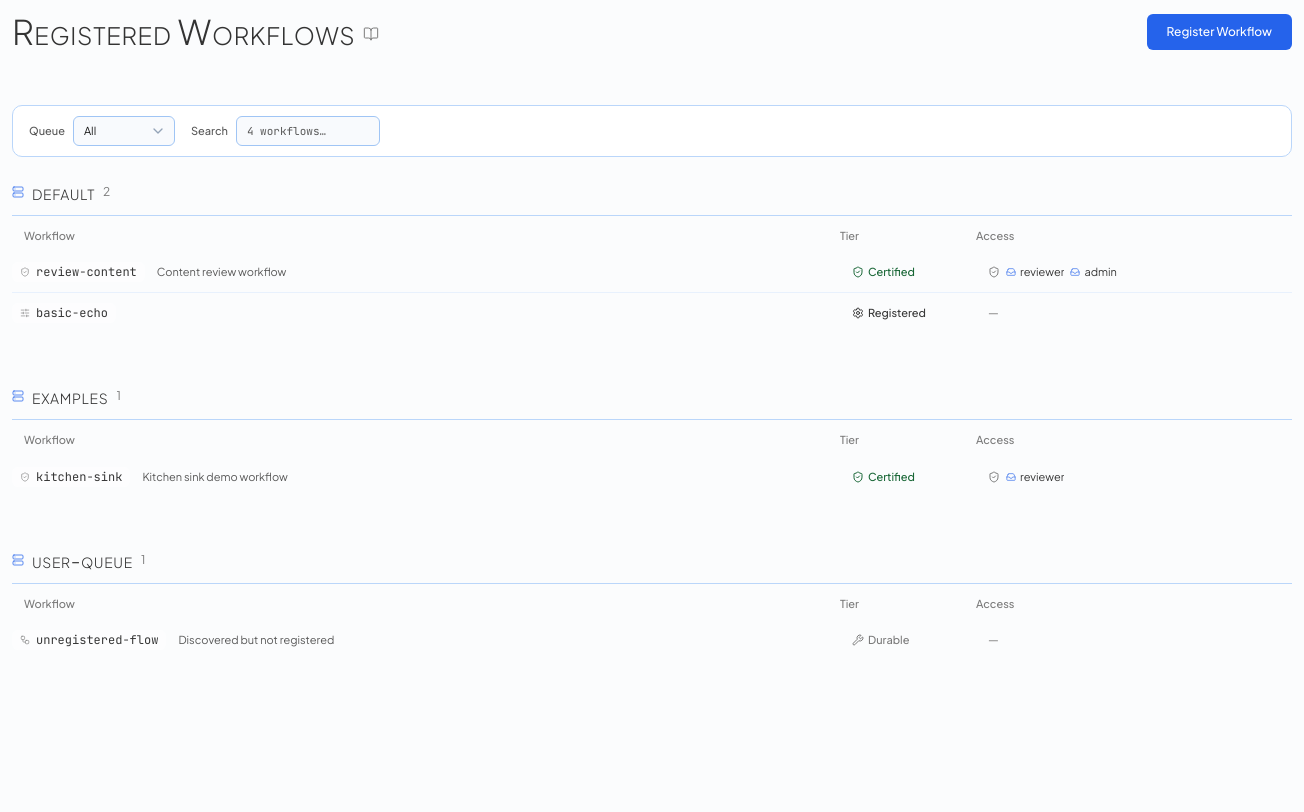
Test: WorkflowConfigsPage › filters by search text (workflow_type)
Type "kitchen" into the field with placeholder "4 workflows…" at (308, 131), box [236,116,380,146]
Wait 350 ms
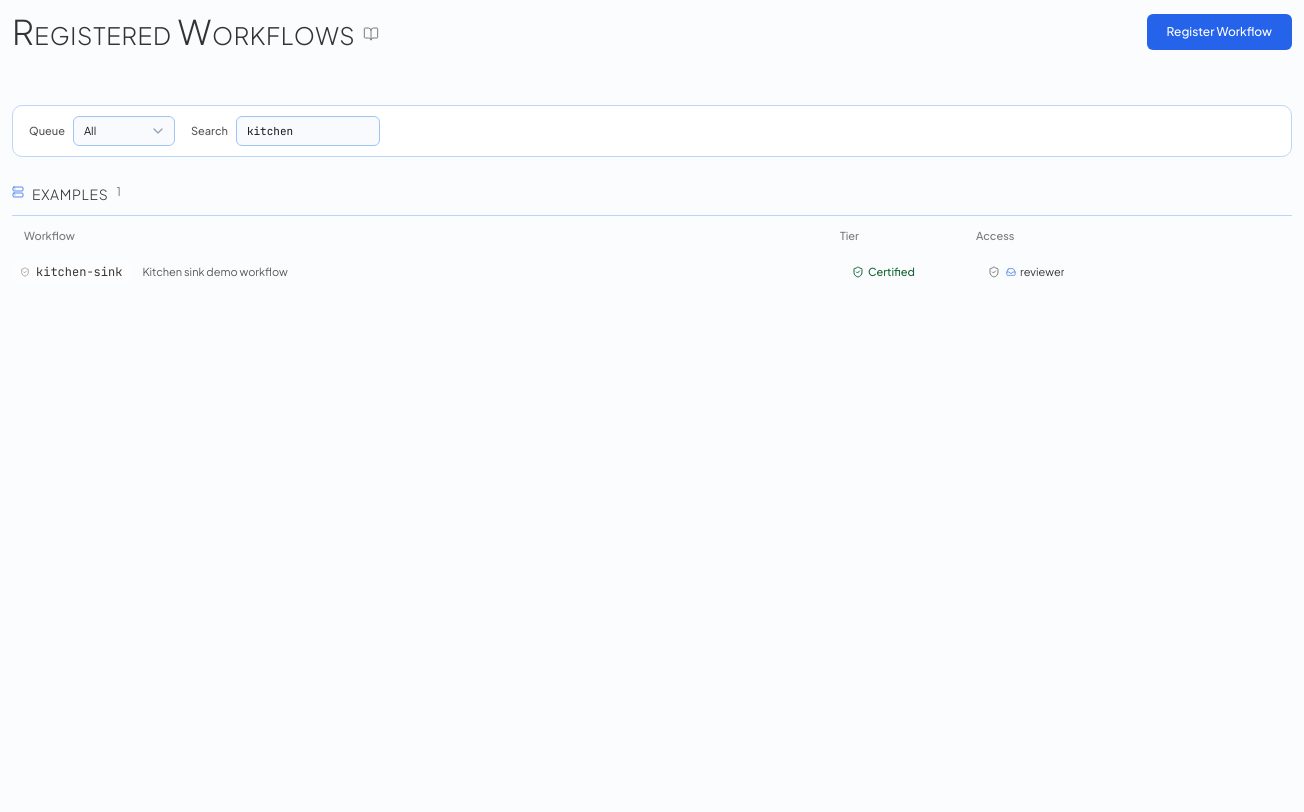
Expected: the text "kitchen-sink" is shown, [36,264,122,280]
Now the button "review-content" is gone
